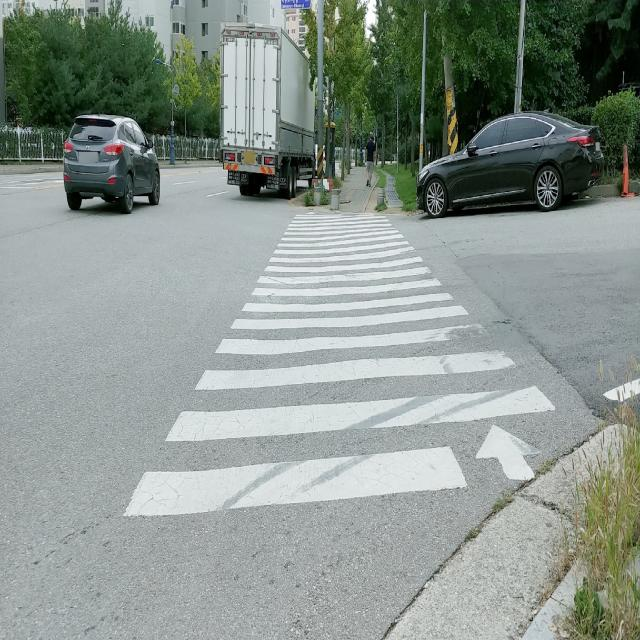횡단보도: (121, 210, 558, 523)
